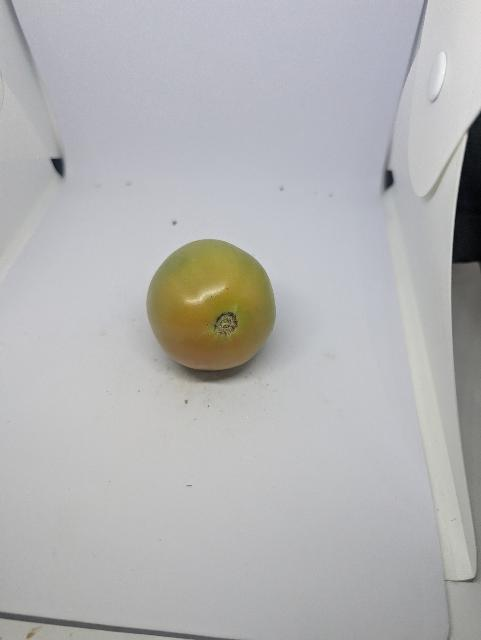breaker: (145, 238, 282, 374)
